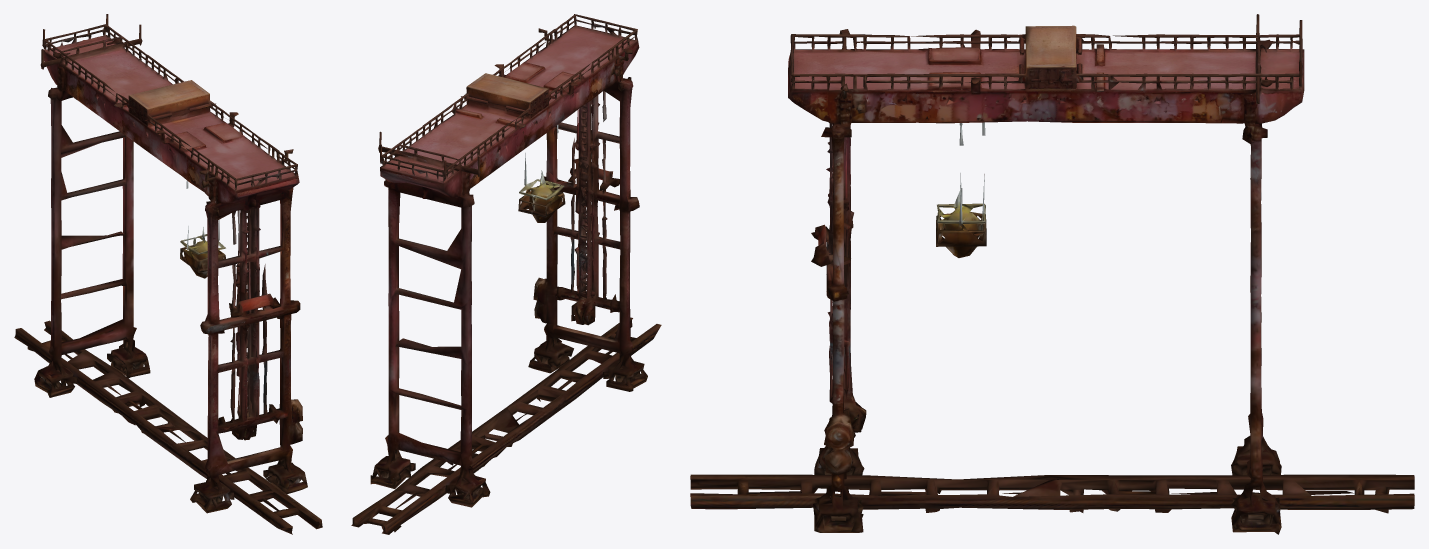
File: gantry_crane.glb
3 views of the same model, side by side, from view 1: azimuth 30°, elevation 25°; view 2: azimuth 150°, elevation 25°; view 3: azimuth 270°, elevation 25° (orthographic). The views are drawn at different scales.
Visible parts, largest first — view 1: tripo_node_57e0f1dc-df43-4fe7-9d5e-14f064196355; view 2: tripo_node_57e0f1dc-df43-4fe7-9d5e-14f064196355; view 3: tripo_node_57e0f1dc-df43-4fe7-9d5e-14f064196355.
Boxes of the visible parts, <box> form: tripo_node_57e0f1dc-df43-4fe7-9d5e-14f064196355: <box>14,14,322,534</box>; tripo_node_57e0f1dc-df43-4fe7-9d5e-14f064196355: <box>351,14,661,534</box>; tripo_node_57e0f1dc-df43-4fe7-9d5e-14f064196355: <box>690,14,1414,534</box>.
Bounding box in the file's own units: 0.2185 × 0.7072 × 1.
1 material, 1 textured.
